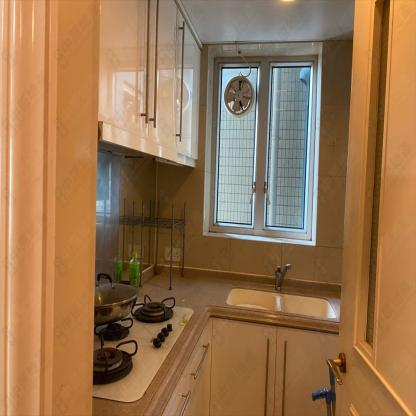Cupboard: (160, 316, 338, 415), (100, 0, 200, 166)
Exhaust Fan: (225, 75, 254, 115)
Faucet: (275, 260, 293, 291)
Sink: (224, 287, 336, 316), (225, 289, 335, 318)
Stove: (94, 300, 195, 401)
